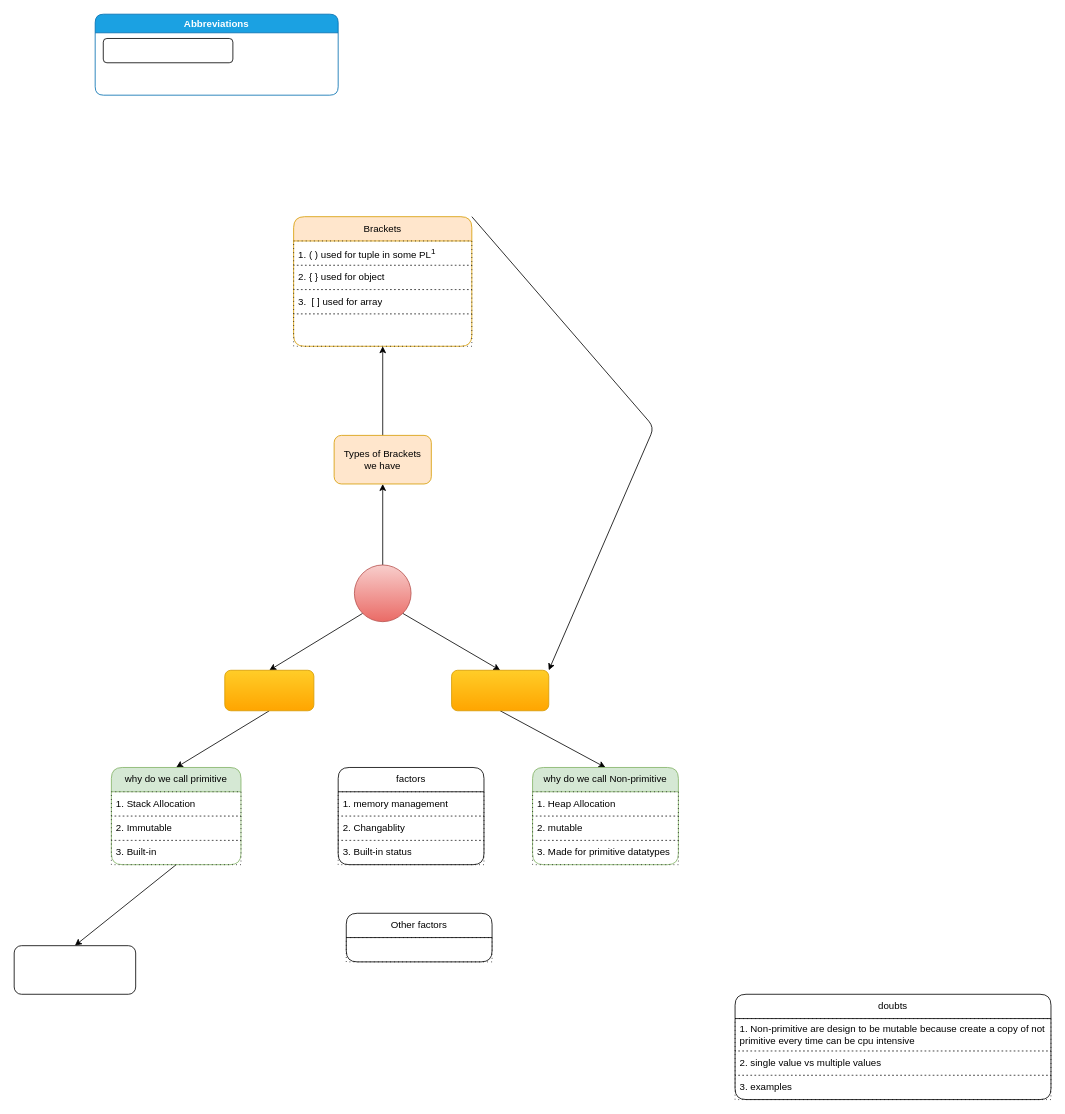
This 1065x1114 diagram has some shape labels left out. The centre of each missing label's shape, as x and y in pixels:
1. PL = programming lang: [167,50]
1. senematic like in py: [418,949]
4. < > used for html/xml tags, template parameter in c++ etc: [382,329]
Datatypes: [382,593]
memory size used by each datatypes varies based on PL 1: [74,969]
Non-Primitive Datatypes: [500,690]
Primitive Datatypes: [269,690]
